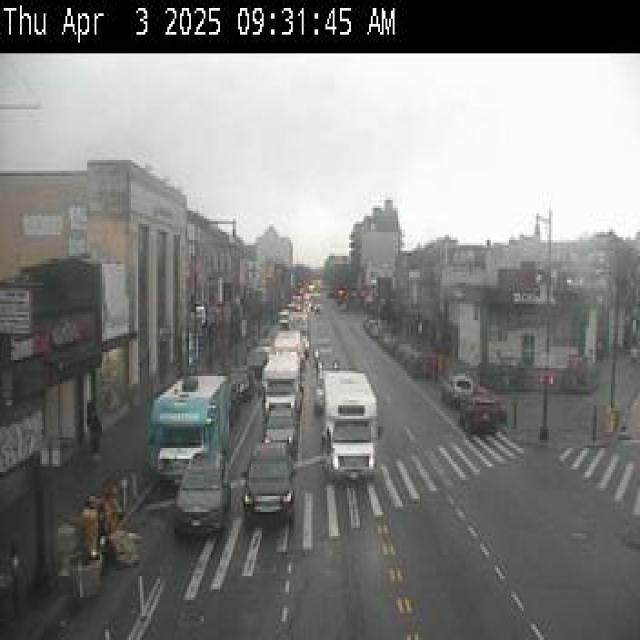open parking: (384, 329, 522, 437)
